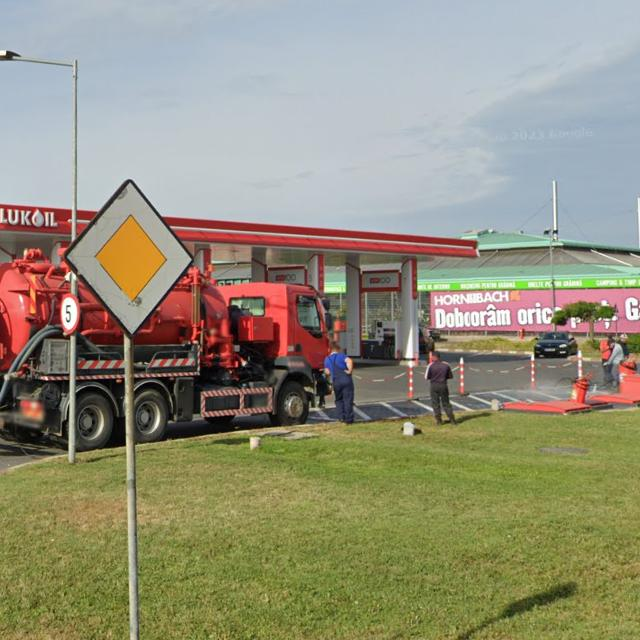forb_speed_over_5: (59, 293, 80, 336)
prio_priority_road: (61, 179, 194, 338)
